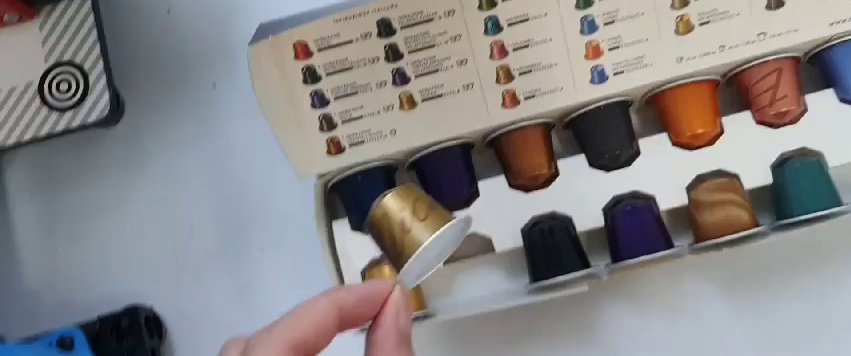capsule_9: (362, 180, 474, 291)
